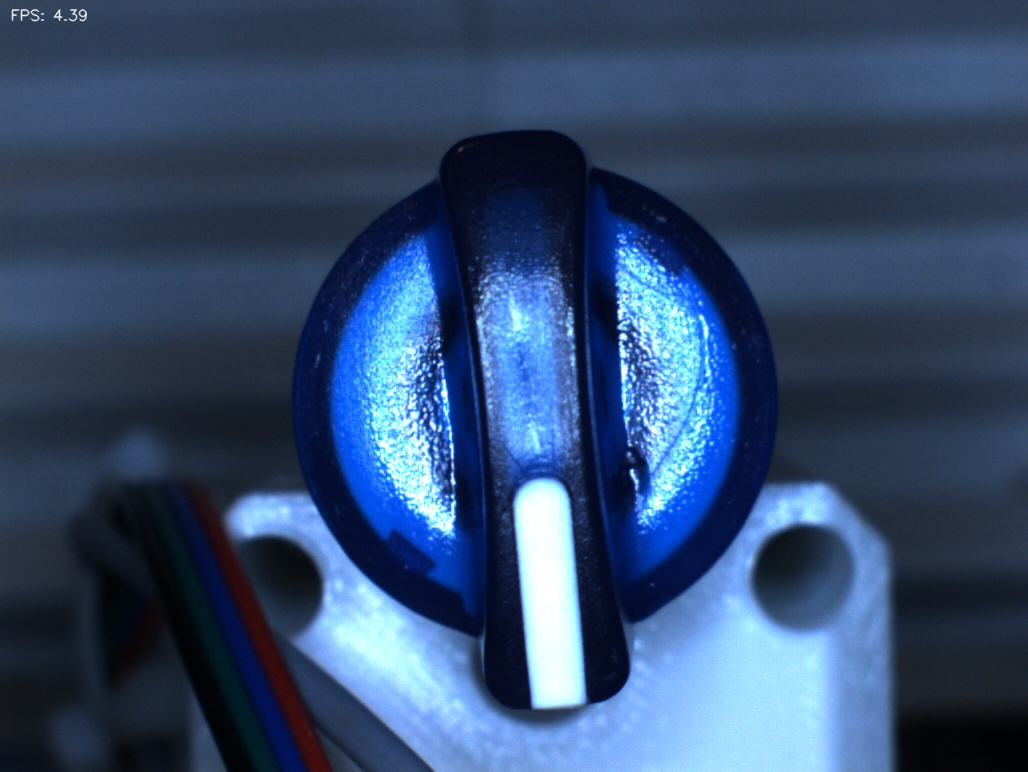Choc: (585, 441, 667, 523)
